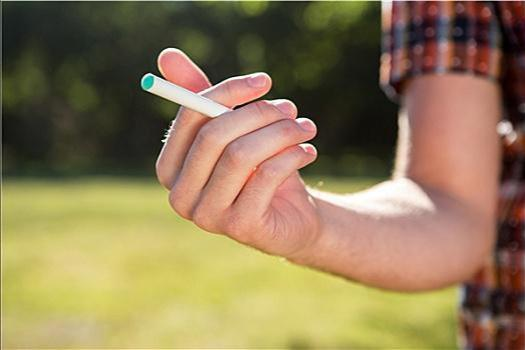Cigarette: (141, 75, 237, 122)
